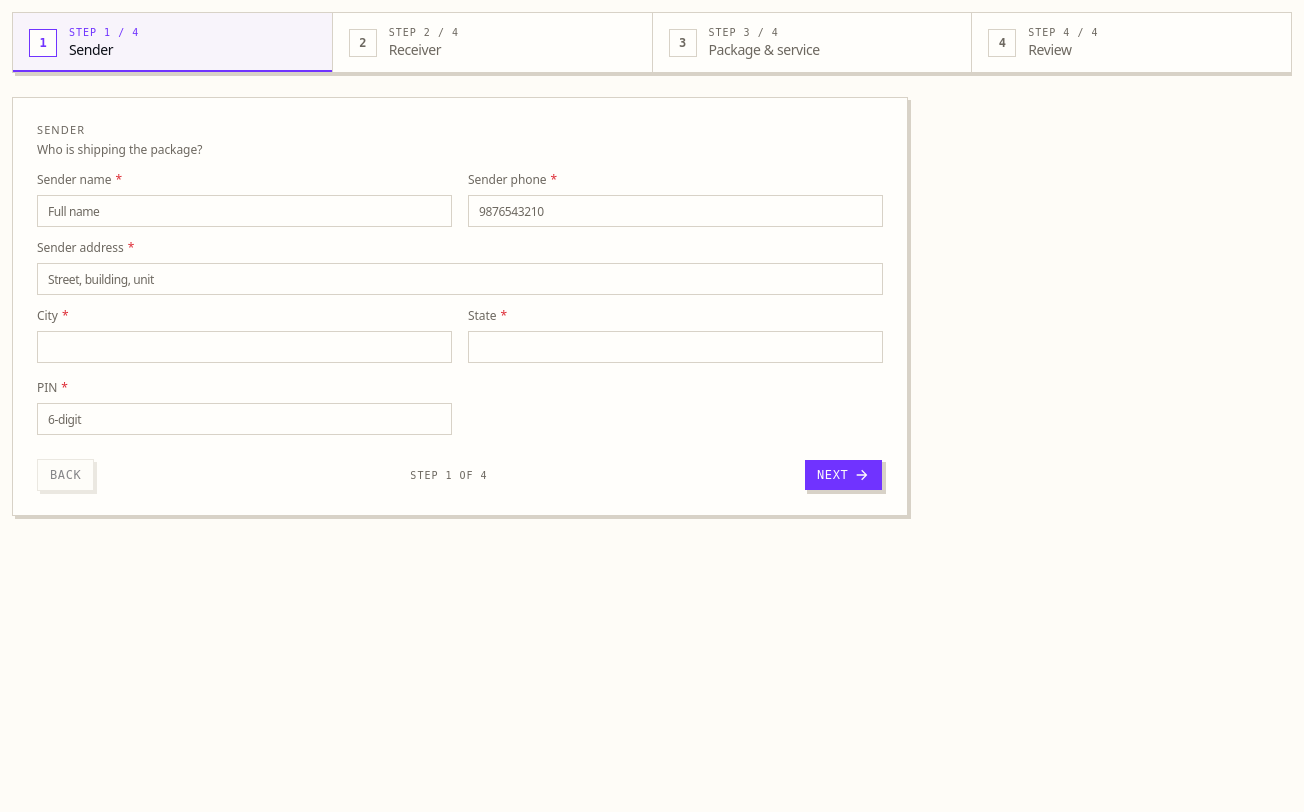
Test: V7CreateShipmentWizard › blocks Next when the current step has invalid fields and surfaces zod errors
# Click Next without filling anything.
Click the button "NEXT": (843,475) [804,459,883,491]
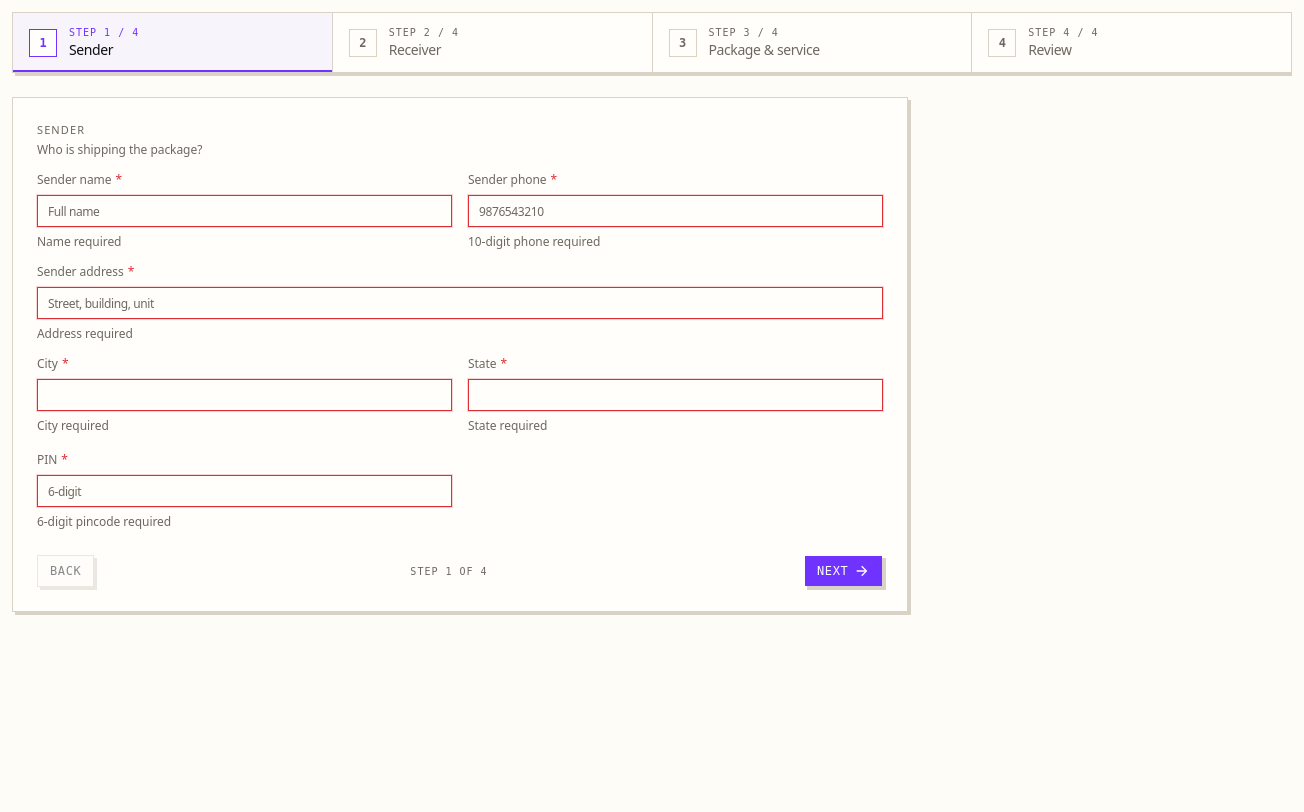
Check: the text "Name required" is shown, box [37,233,121,250]
